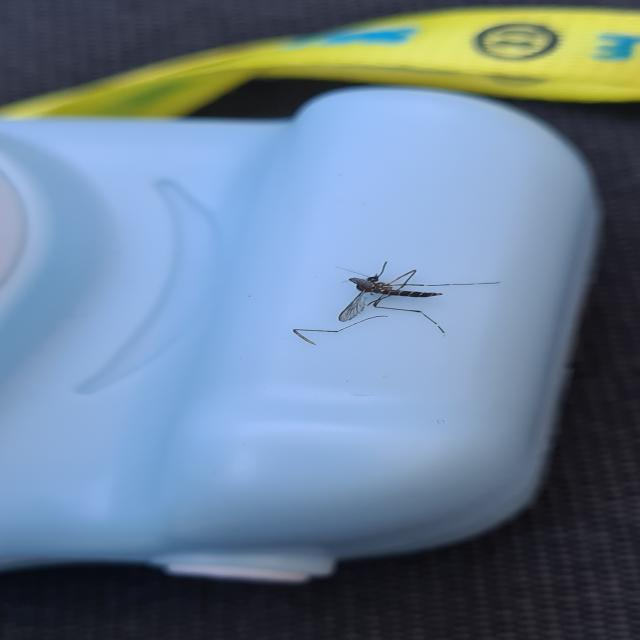albopictus: (277, 254, 498, 344)
